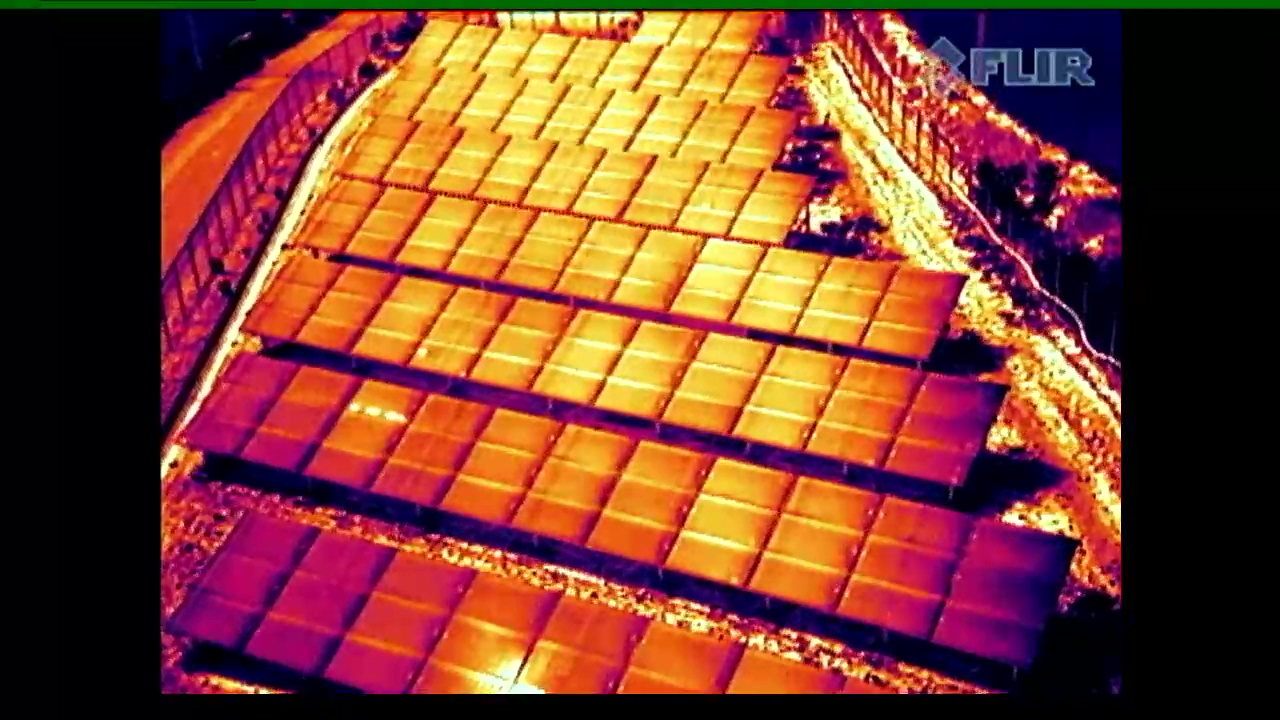hotspot: (296, 376, 432, 493), (407, 281, 520, 377)
